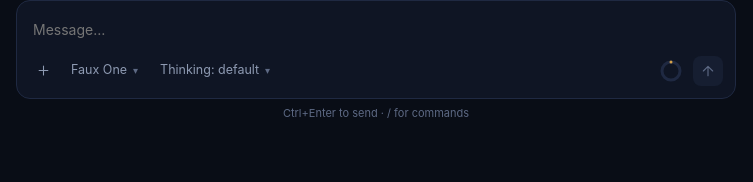
Test: Composer › slash commands (Task 7) › selecting an arg-taking command from the menu inserts `/name ` for its args
Step 1. Type "/na" into the text box with placeholder "Message…" → (376, 30), box [29,13,723,47]
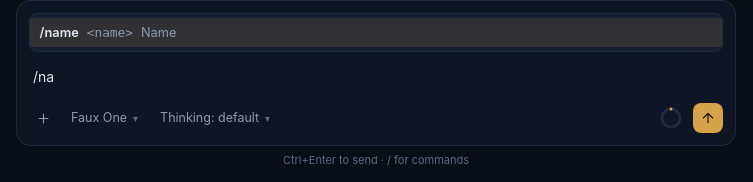
Step 2. Click the option "/name <name> Name" → click(62, 32), box [30,18,722,47]
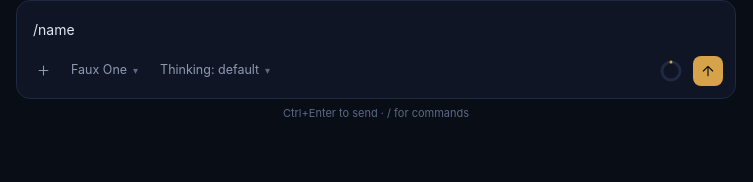
Check: the text box holds "/name ", box [29,13,723,47]
